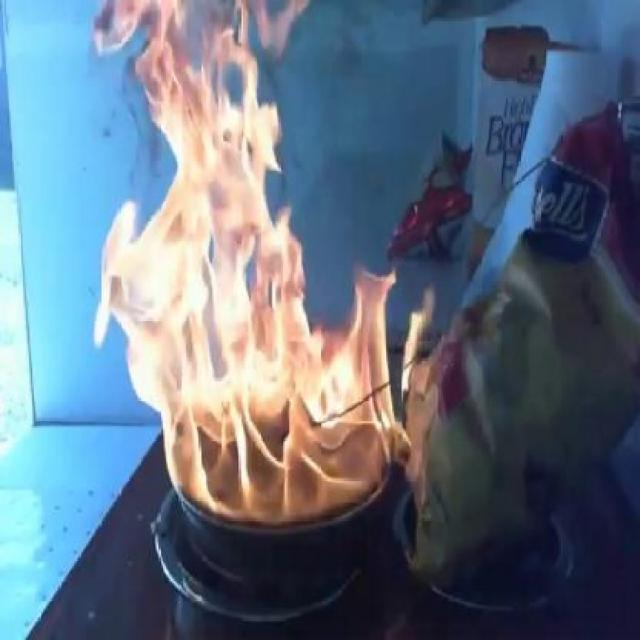fire: (98, 2, 311, 380), (136, 384, 330, 520), (324, 263, 410, 462)
